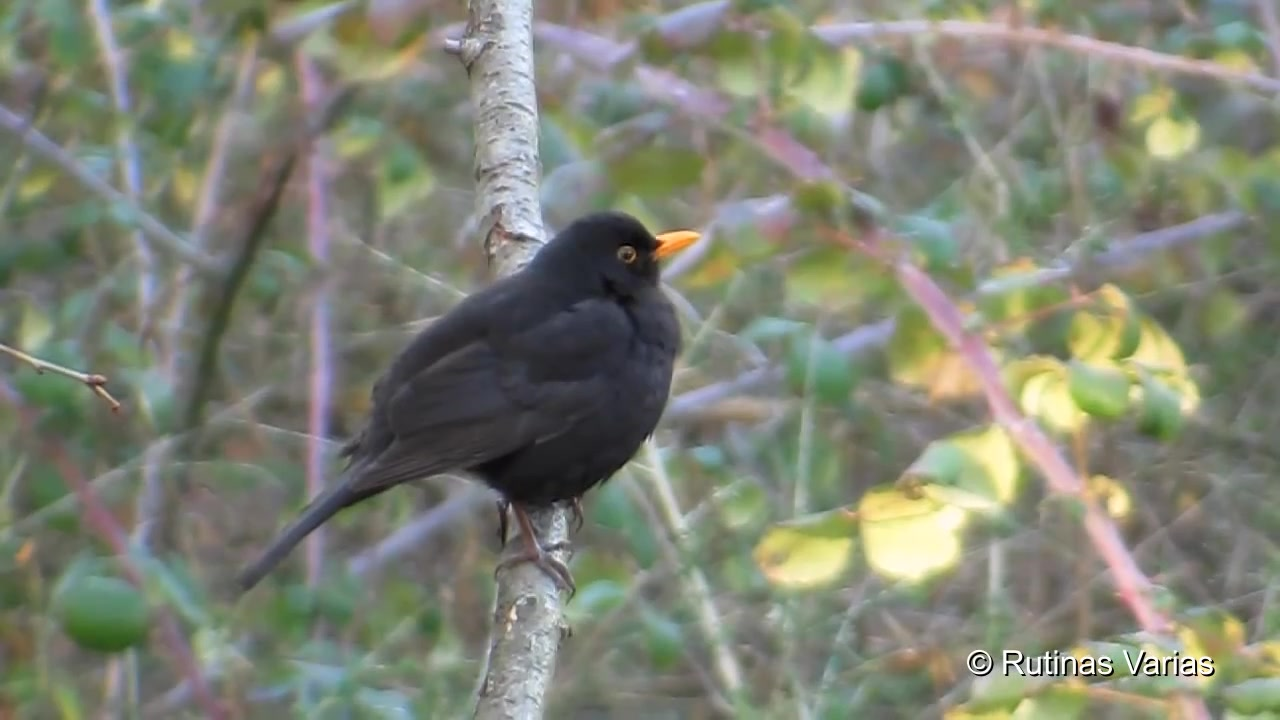bird: (234, 210, 703, 604)
